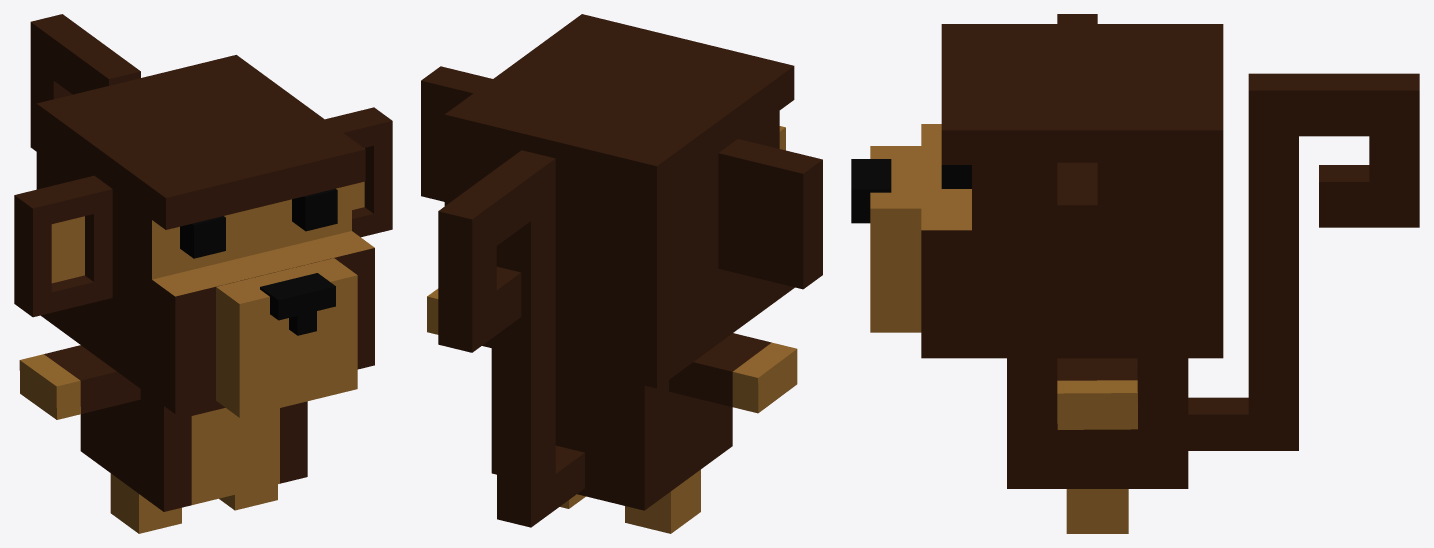
File: monkey.FBX
The picture shows the model from 3 angles, left to right: view 1: azimuth 30°, elevation 25°; view 2: azimuth 150°, elevation 25°; view 3: azimuth 270°, elevation 25°; orthographic projection. The views are drawn at different scales.
Parts seen in each view (by area): view 1: monkey_head, monkey_body, monkey_ear_R, monkey_tail, monkey_arm_R, monkey_ear_L, monkey_eyes, monkey_leg_R, monkey_leg_L; view 2: monkey_head, monkey_tail, monkey_body, monkey_ear_R, monkey_arm_R, monkey_ear_L, monkey_leg_R, monkey_arm_L; view 3: monkey_head, monkey_tail, monkey_body, monkey_ear_L, monkey_arm_L, monkey_leg_L, monkey_eyes.
Boxes of the visible parts, x1=… form: monkey_head: x1=36, y1=55, x2=374, y2=417; monkey_body: x1=80, y1=389, x2=307, y2=511; monkey_ear_R: x1=14, y1=175, x2=112, y2=317; monkey_tail: x1=30, y1=14, x2=140, y2=151; monkey_arm_R: x1=19, y1=345, x2=140, y2=419; monkey_ear_L: x1=325, y1=107, x2=392, y2=237; monkey_eyes: x1=180, y1=188, x2=337, y2=258; monkey_leg_R: x1=110, y1=473, x2=181, y2=533; monkey_leg_L: x1=219, y1=484, x2=277, y2=510; monkey_head: x1=444, y1=14, x2=794, y2=388; monkey_tail: x1=438, y1=150, x2=584, y2=527; monkey_body: x1=491, y1=348, x2=732, y2=510; monkey_ear_R: x1=718, y1=139, x2=822, y2=289; monkey_arm_R: x1=669, y1=333, x2=797, y2=413; monkey_ear_L: x1=421, y1=66, x2=492, y2=201; monkey_leg_R: x1=625, y1=469, x2=700, y2=533; monkey_arm_L: x1=427, y1=288, x2=438, y2=334; monkey_head: x1=851, y1=24, x2=1223, y2=358; monkey_tail: x1=1188, y1=73, x2=1419, y2=450; monkey_body: x1=1007, y1=358, x2=1188, y2=488; monkey_ear_L: x1=1057, y1=162, x2=1097, y2=323; monkey_arm_L: x1=1057, y1=358, x2=1137, y2=429; monkey_leg_L: x1=1066, y1=489, x2=1128, y2=533; monkey_eyes: x1=941, y1=165, x2=971, y2=188.
Bounding box in the file's own units: 90 × 92.09 × 113.
